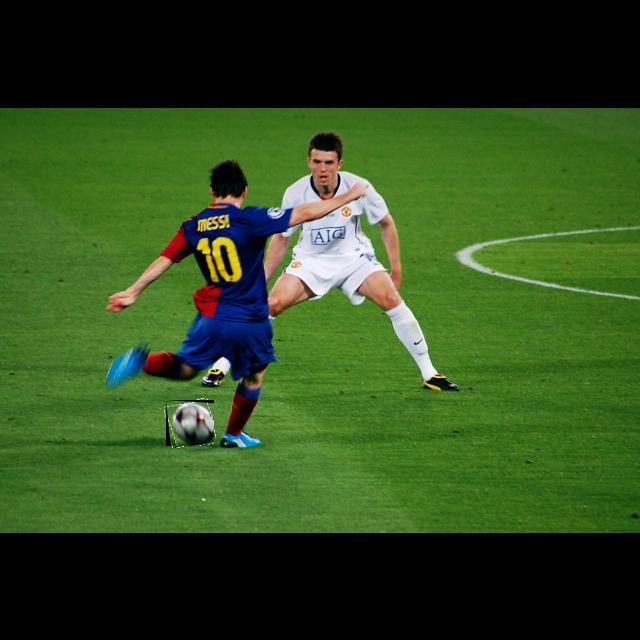Football: (166, 400, 214, 446)
